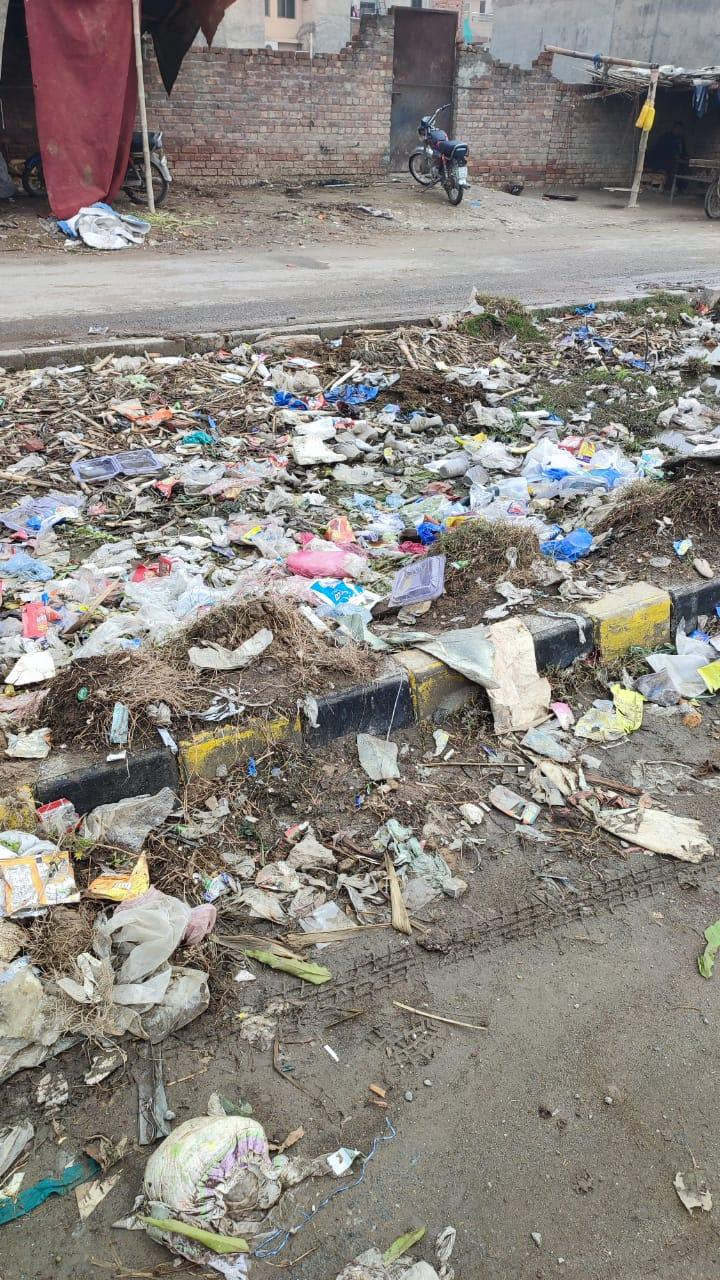garbage: (3, 331, 720, 1001)
